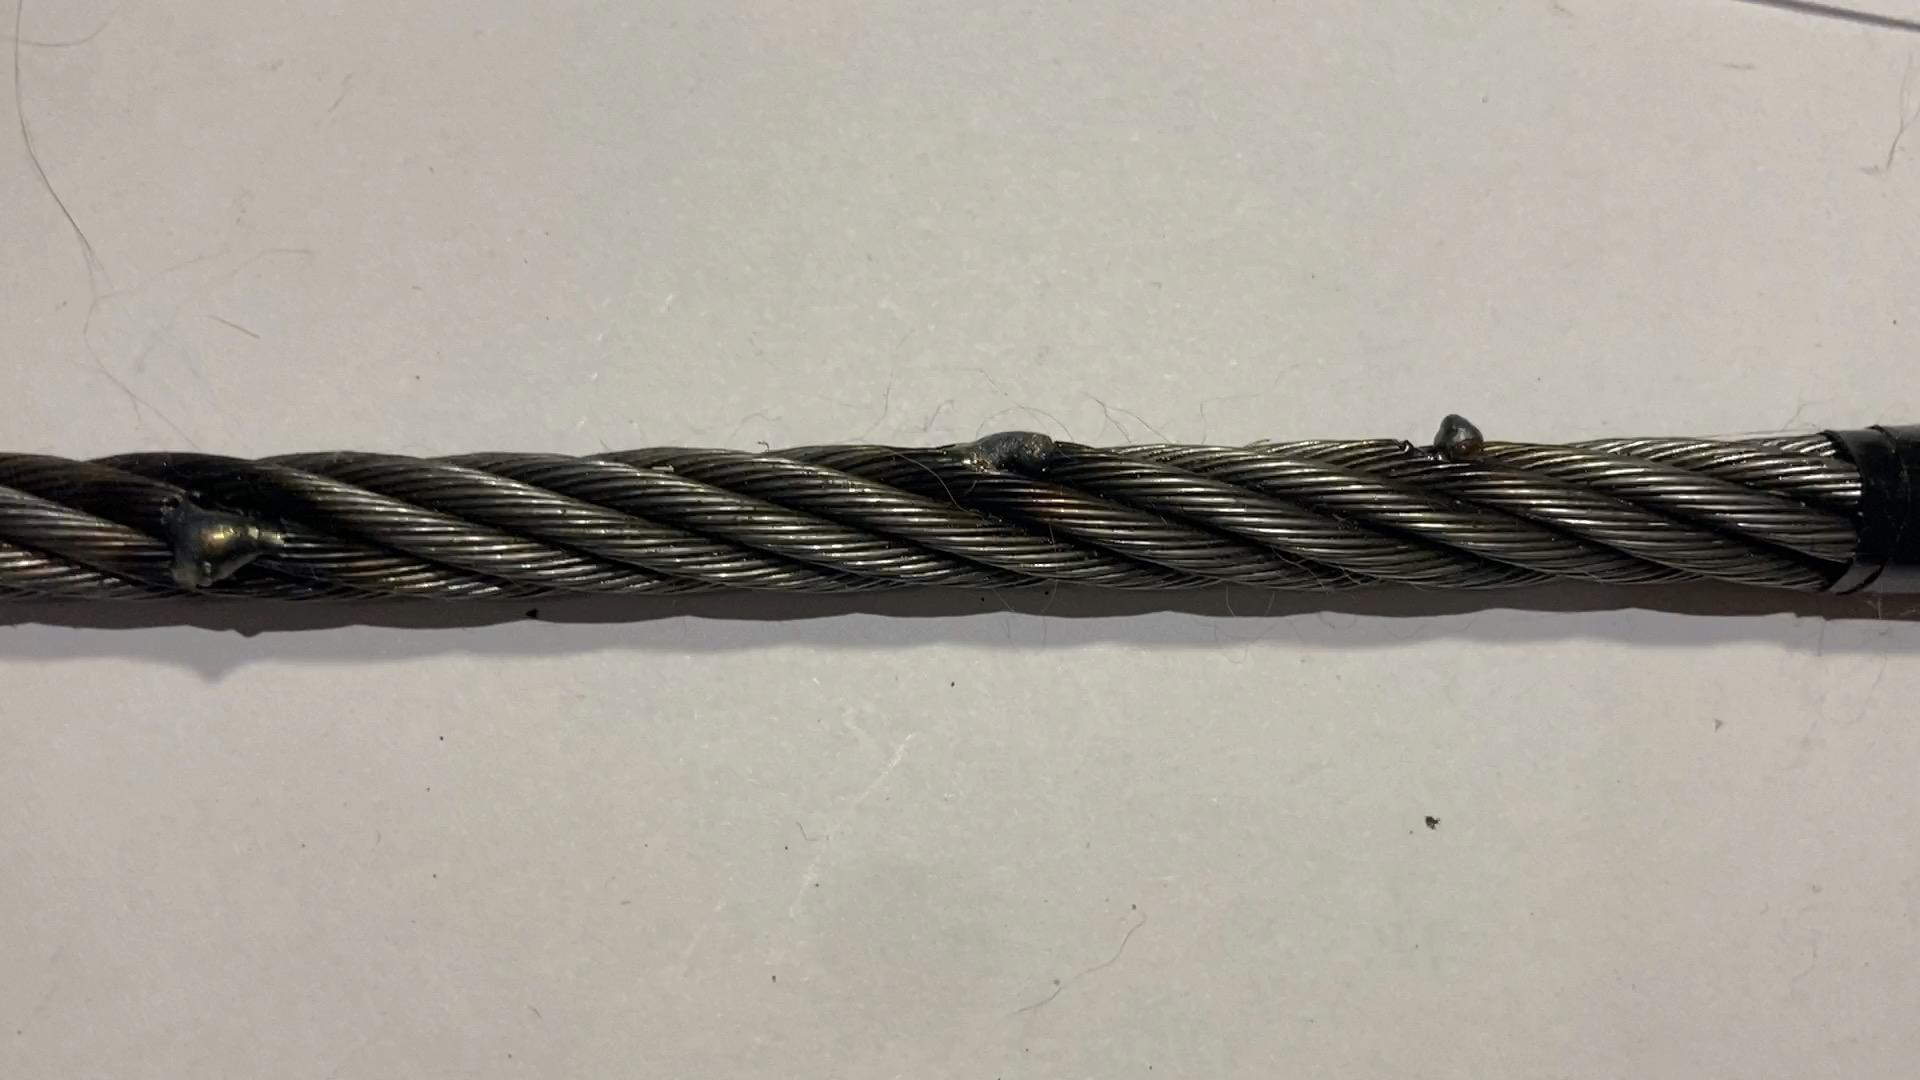thunderbolt: (161, 473, 287, 593), (942, 390, 1077, 487), (1389, 393, 1501, 476)
